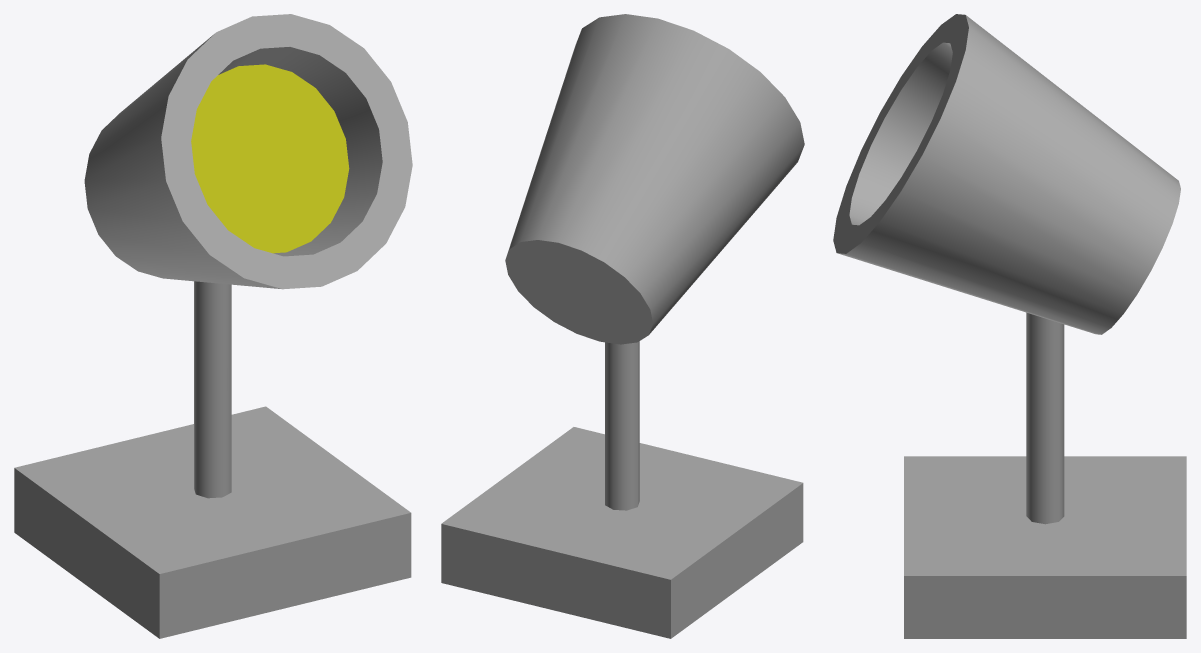
Rendered from sm_light_spotlight_LP.fbx.
The picture shows the model from 3 angles, left to right: view 1: azimuth 30°, elevation 25°; view 2: azimuth 150°, elevation 25°; view 3: azimuth 270°, elevation 25°; orthographic projection. The views are drawn at different scales.
Visible parts, largest first — view 1: light_spotlight_LP; view 2: light_spotlight_LP; view 3: light_spotlight_LP.
Part boxes in pixels (left/top/right/bottom): light_spotlight_LP: left=14, top=14, right=412, bottom=638; light_spotlight_LP: left=441, top=14, right=804, bottom=638; light_spotlight_LP: left=833, top=14, right=1186, bottom=638.
Bounding box in the file's own units: 37.71 × 81.23 × 47.16.
